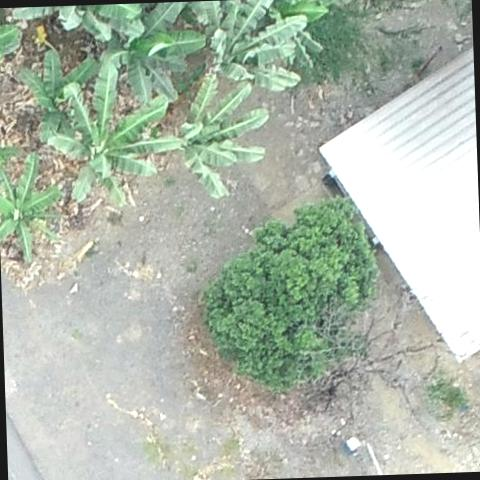Banana-plant: (46, 53, 178, 214), (144, 62, 277, 204), (48, 0, 213, 112), (184, 0, 311, 102), (14, 45, 100, 142), (0, 149, 67, 265)
